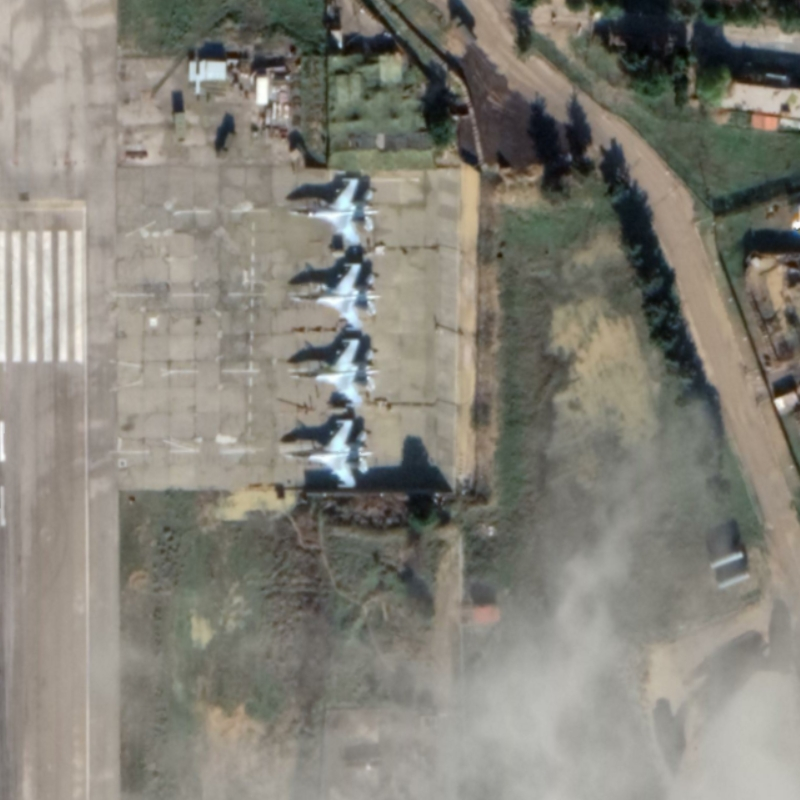A1: (286, 335, 381, 410), (288, 260, 383, 333), (281, 417, 374, 490), (286, 175, 380, 247)
